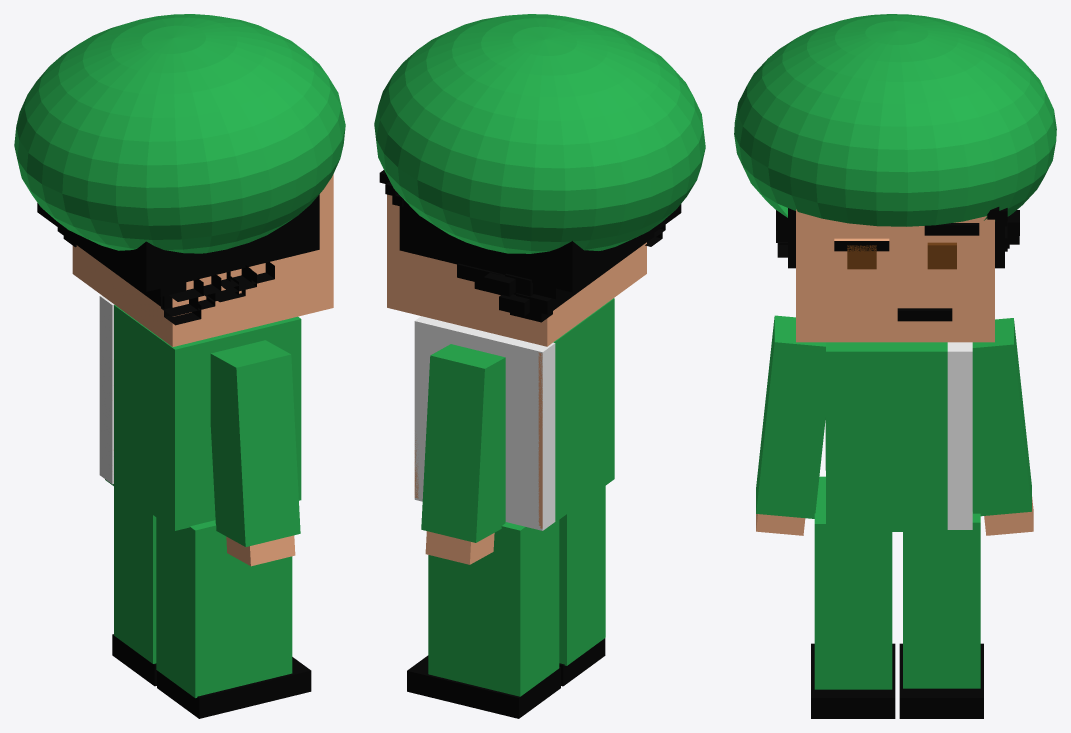
File: Personaje3.fbx
3 renders of one model, left to right at view 1: azimuth 30°, elevation 25°; view 2: azimuth 150°, elevation 25°; view 3: azimuth 270°, elevation 25°, orthographic.
Parts seen in each view (by area): view 1: Personaje; view 2: Personaje; view 3: Personaje.
Boxes of the visible parts, bbox=[...] form: Personaje: bbox=[14, 14, 345, 718]; Personaje: bbox=[374, 14, 705, 718]; Personaje: bbox=[734, 14, 1056, 718].
Bounding box in the file's own units: 55.57 × 119 × 54.04.
